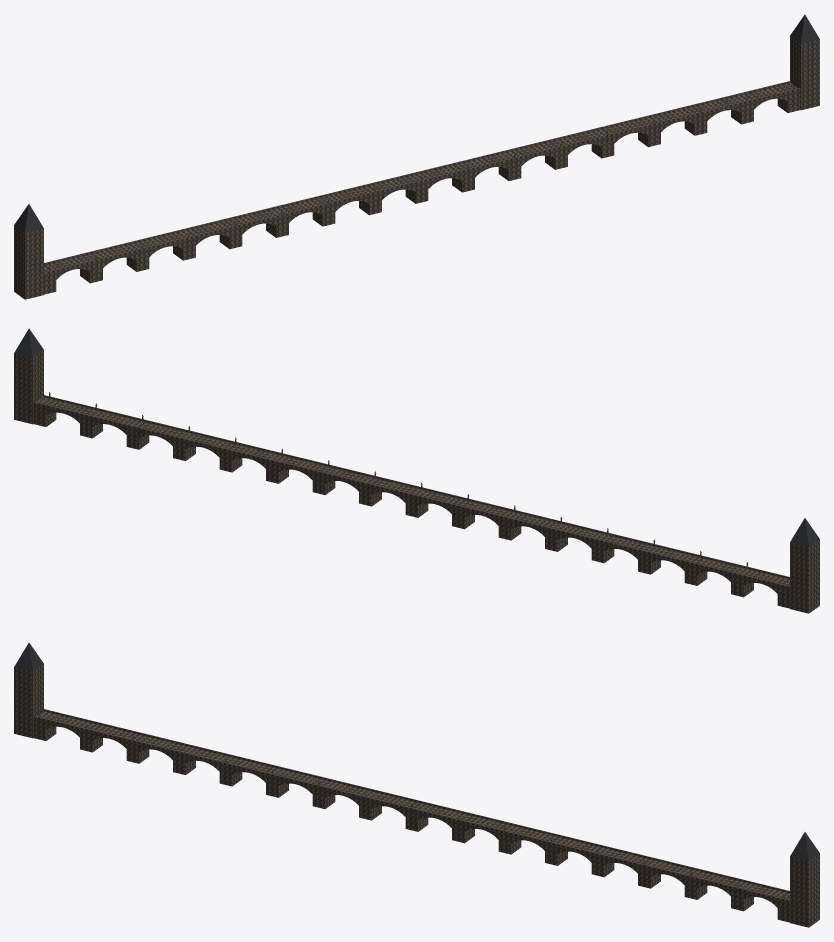
File: bridge_far.gltf
3 renders of one model, top to bottom at view 1: azimuth 30°, elevation 25°; view 2: azimuth 150°, elevation 25°; view 3: azimuth 330°, elevation 25°, orthographic.
Parts seen in each view (by area): view 1: bridge_far_mesh; view 2: bridge_far_mesh; view 3: bridge_far_mesh.
Boxes of the visible parts, left/top/right/bottom form: bridge_far_mesh: left=14, top=14, right=819, bottom=299; bridge_far_mesh: left=14, top=328, right=819, bottom=613; bridge_far_mesh: left=14, top=642, right=819, bottom=927.
Size of the model in its own units: 500 by 54 by 12.
3 materials, 3 textured.
